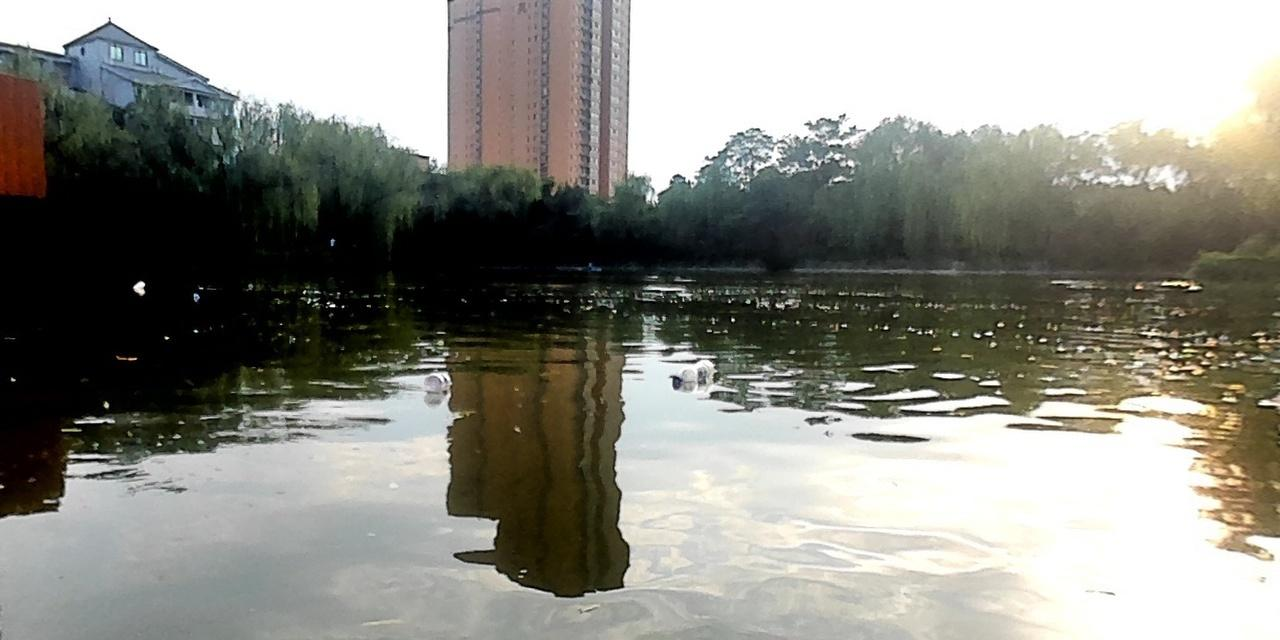bottle: (665, 355, 720, 389), (420, 368, 451, 395)
